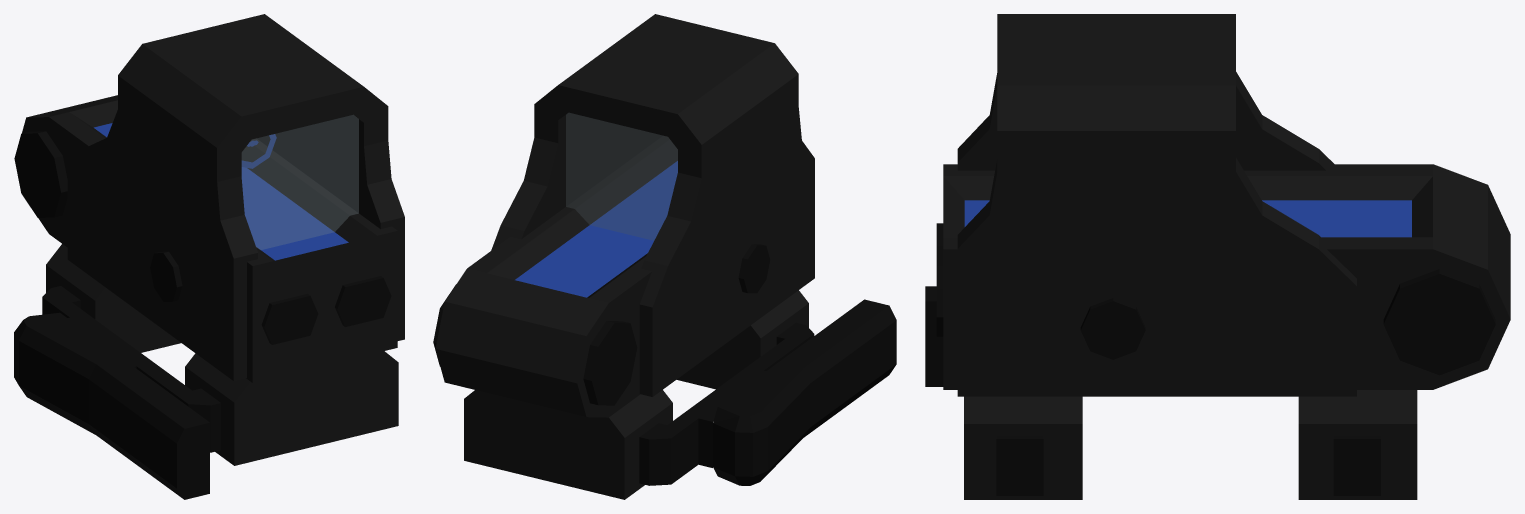
File: holografica.glb
3 views of the same model, side by side, from view 1: azimuth 30°, elevation 25°; view 2: azimuth 150°, elevation 25°; view 3: azimuth 270°, elevation 25° (orthographic). The views are drawn at different scales.
Visible parts, largest first — view 1: holografica-malha; view 2: holografica-malha; view 3: holografica-malha.
Part boxes in pixels (left/top/right/bottom): holografica-malha: left=14, top=14, right=404, bottom=499; holografica-malha: left=433, top=14, right=896, bottom=499; holografica-malha: left=925, top=14, right=1510, bottom=499.
Size of the model in its own units: 0.047 by 0.0588 by 0.0762.
